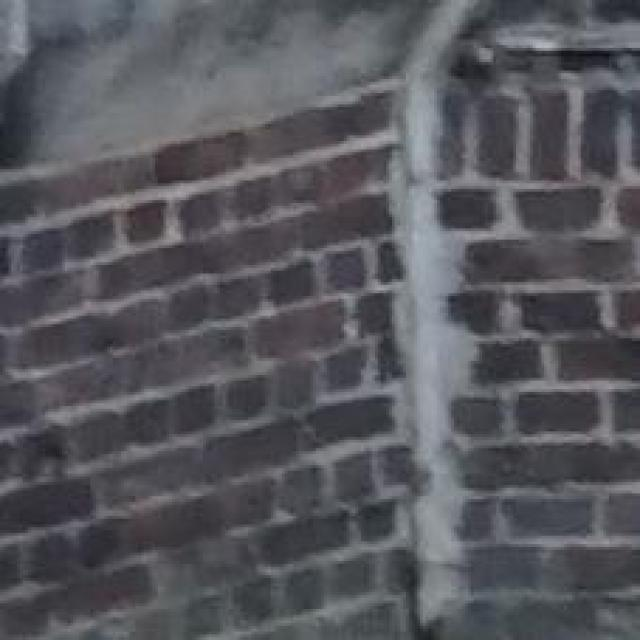Crack: (333, 67, 640, 640)
